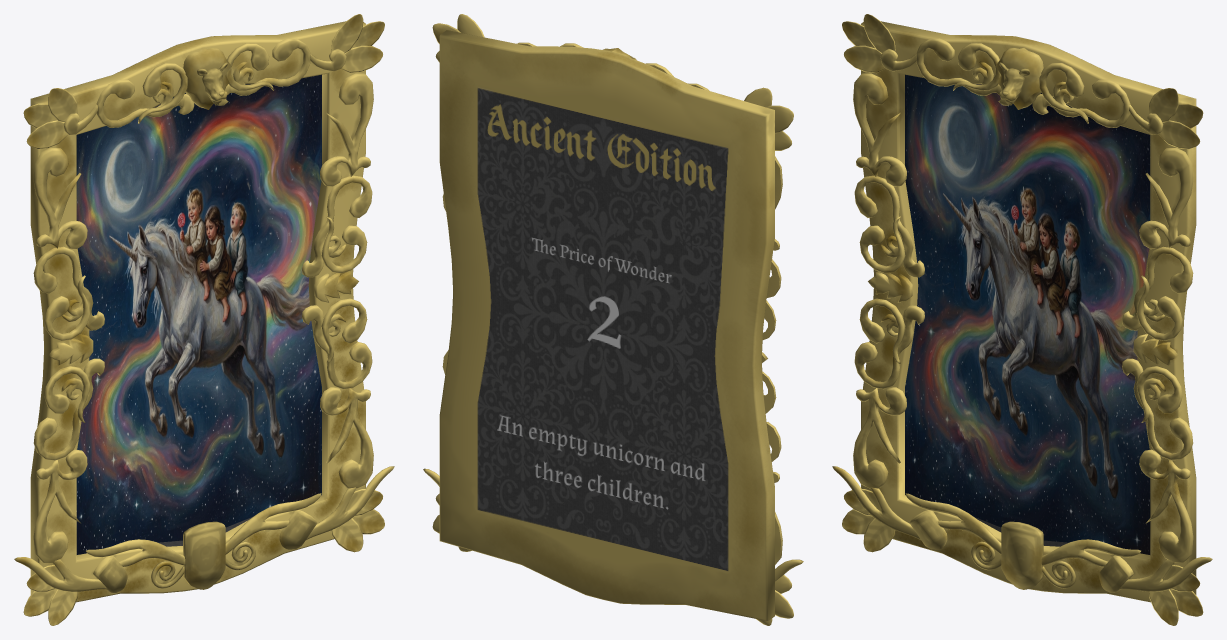
The model's file is nft2.glb.
3 views of the same model, side by side, from view 1: azimuth 30°, elevation 25°; view 2: azimuth 150°, elevation 25°; view 3: azimuth 330°, elevation 25° (orthographic).
Parts seen in each view (by area): view 1: Cube.002, Cube.001; view 2: Cube.001; view 3: Cube.002, Cube.001.
Part boxes in pixels (x1,y1,x2,y2): Cube.002: [76, 74, 321, 554]; Cube.001: [14, 14, 394, 625]; Cube.001: [423, 14, 803, 625]; Cube.002: [905, 74, 1150, 554]; Cube.001: [832, 14, 1212, 625].
Size of the model in its own units: 0.8851 by 1.21 by 0.1137.
2 materials, 2 textured.
